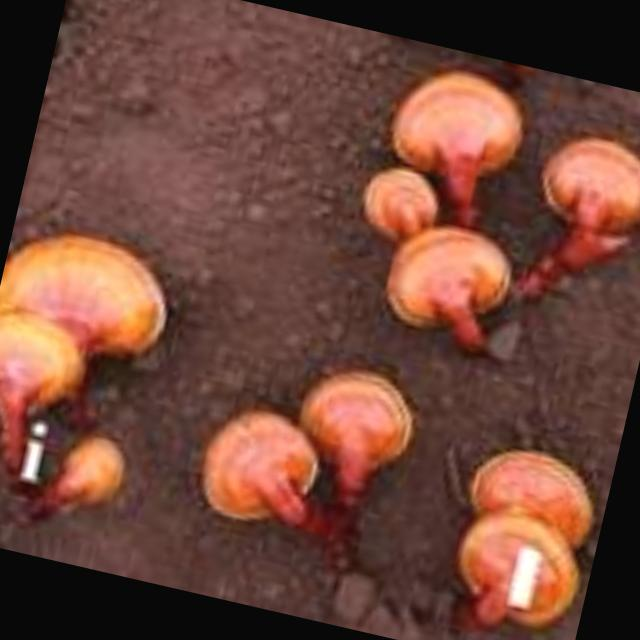ganoderma: (1, 215, 184, 368), (441, 495, 598, 640), (376, 214, 527, 353), (383, 61, 537, 197), (188, 399, 332, 540), (287, 358, 429, 489), (461, 437, 608, 558), (531, 125, 640, 247), (1, 306, 99, 425), (352, 160, 449, 251), (53, 429, 134, 516)
